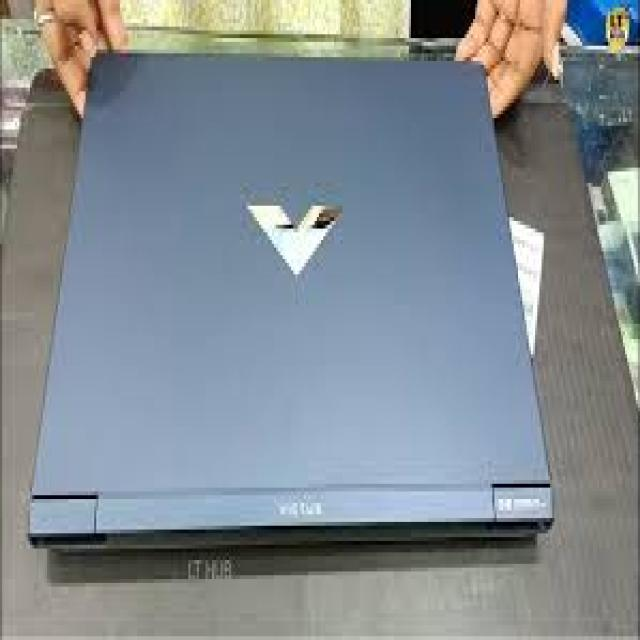laptop: (26, 49, 554, 548)
